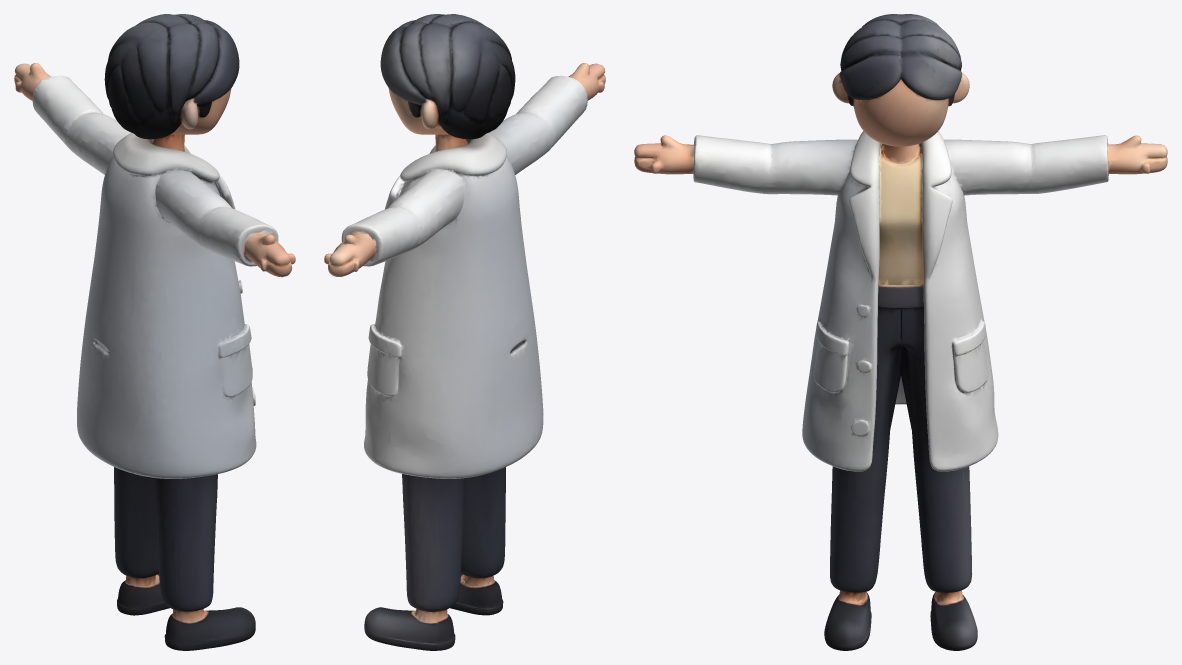
File: doctor_female.glb
3 renders of one model, left to right at view 1: azimuth 30°, elevation 25°; view 2: azimuth 150°, elevation 25°; view 3: azimuth 270°, elevation 25°, orthographic.
Parts seen in each view (by area): view 1: tripo_node_146c2cde-9d64-4028-9077-73d3e88d4867; view 2: tripo_node_146c2cde-9d64-4028-9077-73d3e88d4867; view 3: tripo_node_146c2cde-9d64-4028-9077-73d3e88d4867.
Part boxes in pixels (x1=…): tripo_node_146c2cde-9d64-4028-9077-73d3e88d4867: x1=14, y1=14, x2=295, y2=650; tripo_node_146c2cde-9d64-4028-9077-73d3e88d4867: x1=324, y1=14, x2=605, y2=650; tripo_node_146c2cde-9d64-4028-9077-73d3e88d4867: x1=634, y1=14, x2=1167, y2=650.
Bounding box in the file's own units: 0.2454 × 1 × 0.8015.
1 material, 1 textured.
